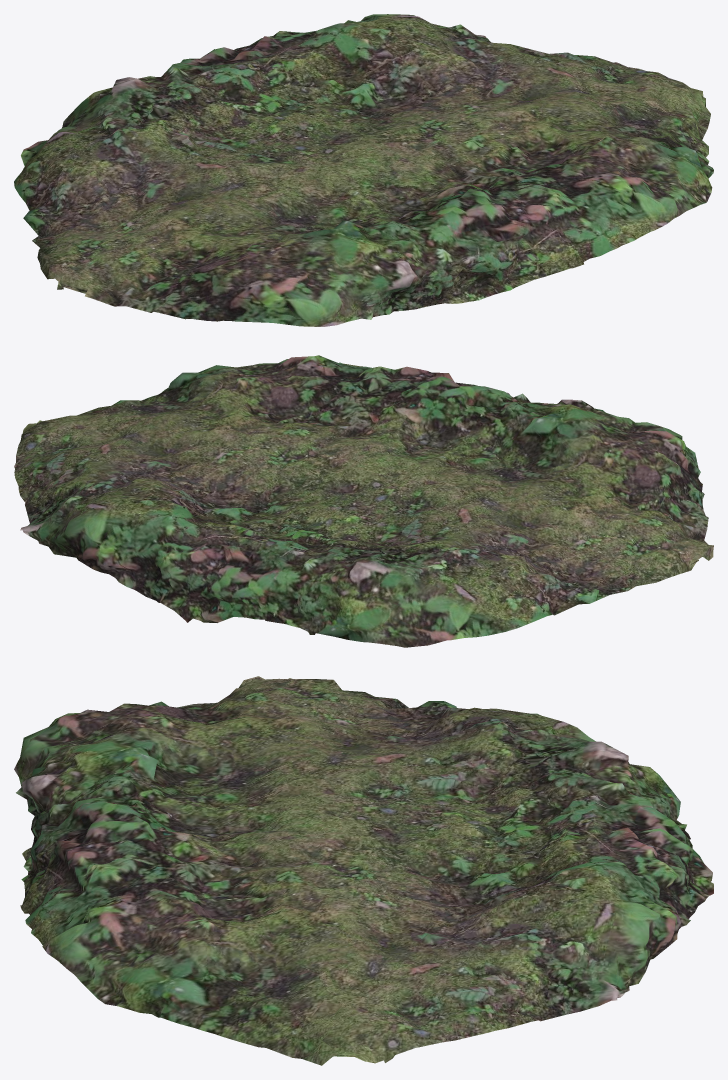
File: moss_ground_002.glb
The picture shows the model from 3 angles, top to bottom: view 1: azimuth 30°, elevation 25°; view 2: azimuth 150°, elevation 25°; view 3: azimuth 270°, elevation 25°; orthographic projection. The views are drawn at different scales.
Parts seen in each view (by area): view 1: moss ground.002; view 2: moss ground.002; view 3: moss ground.002.
Boxes of the visible parts, x1,y1,x2,y2 form: moss ground.002: (14,14,713,326); moss ground.002: (14,355,713,647); moss ground.002: (14,676,713,1065).
Bounding box in the file's own units: 5.13 × 0.4592 × 3.98.
1 material, 1 textured.
